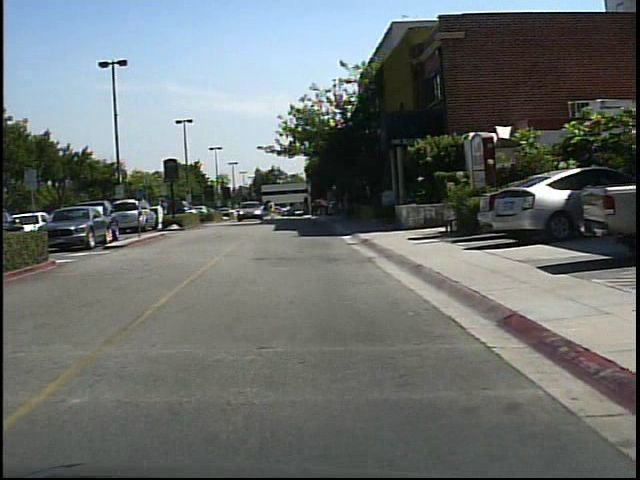person: (155, 194, 171, 230), (266, 195, 279, 221)
